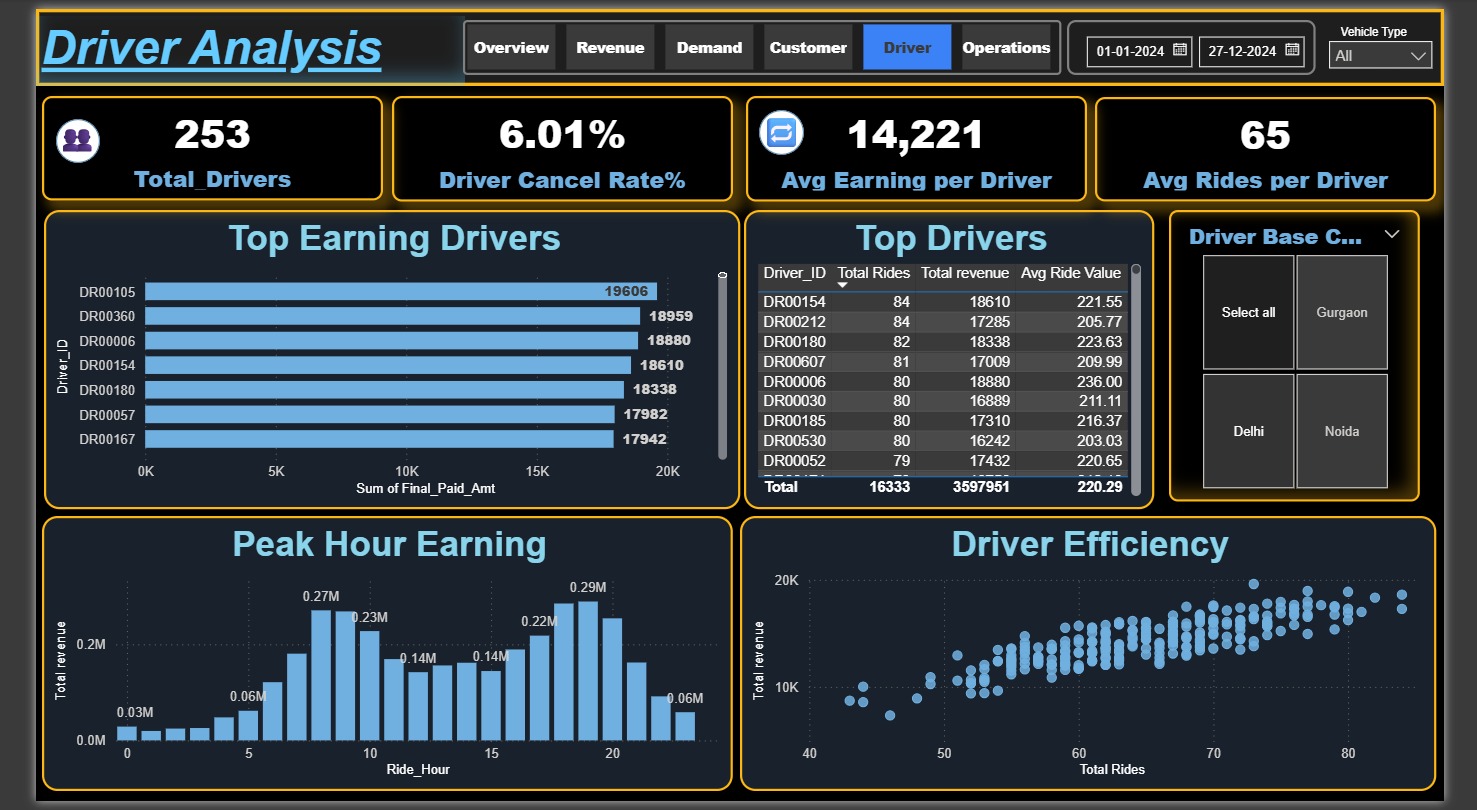

This screenshot's page, from the dashboard's own definition file:
{"tool":"powerbi","page":{"name":"Driver","canvas":[1280,720],"ordinal":4},"visuals":[{"type":"card","title":"Total Rides","fields":{"Values":["All Measures.Driver Cancel Rate%"]},"box":[324,79,310,96],"z":0},{"type":"scatterChart","title":"Driver Efficiency","fields":{"X":["All Measures.Total Rides"],"Y":["All Measures.Total revenue"],"Category":["Rides.Driver_ID"]},"box":[640,461,633,250],"z":1000},{"type":"barChart","title":"Top Earning Drivers","fields":{"Category":["Rides.Driver_ID"],"Y":["Sum(Rides.Final_Paid_Amt)"]},"box":[7,183,633,272],"z":2000},{"type":"tableEx","title":"Top Drivers","fields":{"Values":["Rides.Driver_ID","All Measures.Total Rides","All Measures.Total revenue","All Measures.Avg Ride Value"]},"box":[644,183,373,272],"z":3000},{"type":"shape","box":[0,0,1280,70],"z":4000},{"type":"slicer","fields":{"Values":["Rides.Booking_Timestamp"]},"box":[937.3,10,226.4,50],"z":5000},{"type":"textbox","box":[0,6,390,64],"z":6000},{"type":"pageNavigator","box":[388.2,10,543.6,50],"z":7000},{"type":"slicer","fields":{"Values":["Vehicles.Vehicle_Type"]},"box":[1165,19,114,66],"z":8000},{"type":"textbox","box":[1181,7,80,25],"z":9000},{"type":"card","title":"Total Rides","fields":{"Values":["All Measures.Avg Rides per Driver"]},"box":[962.7,80,310,95.5],"z":10000},{"type":"clusteredColumnChart","title":"Peak Hour Earning","fields":{"Category":["Rides.Ride_Hour"],"Y":["All Measures.Total revenue"]},"box":[5,461,628,250],"z":11000},{"type":"card","title":"Total Customers","fields":{"Values":["All Measures.Total_Drivers"]},"box":[5,79,310,95.5],"z":12000},{"type":"group","id":"g1","title":"Group 3","box":[14.8,91.7,48.2,50.9],"z":13000},{"type":"card","title":"Repeat Customer %","fields":{"Values":["All Measures.Avg Earning per Driver"]},"box":[645,79,310,96.4],"z":14000},{"type":"group","id":"g2","title":"Group 8","box":[654.1,88.1,57.3,47.3],"z":15000},{"type":"slicer","title":"Driver Base City","fields":{"Values":["Drivers.Driver_Base_City"]},"box":[1030,183,228,265],"z":16000},{"type":"shape","box":[656.9,91.7,40.9,40.9],"z":17000,"group":"g2"},{"type":"shape","box":[18.4,99.8,40,40],"z":17000,"group":"g1"},{"type":"textbox","box":[654.1,88.1,57.3,47.3],"z":18000,"group":"g2"},{"type":"textbox","box":[14.8,91.7,48.2,50.9],"z":18000,"group":"g1"}]}

Visuals, with their boxes in screenshot pixels (x1, y1, x2, y2), scaled from the page's 1280x720 canvas onto the 1477x810 screenshot:
"Total Rides" card: left=374, top=89, right=732, bottom=197
"Driver Efficiency" scatterChart: left=738, top=519, right=1469, bottom=800
"Top Earning Drivers" barChart: left=8, top=206, right=738, bottom=512
"Top Drivers" tableEx: left=743, top=206, right=1174, bottom=512
shape: left=0, top=0, right=1476, bottom=79
slicer - Rides.Booking_Timestamp: left=1082, top=11, right=1343, bottom=68
textbox: left=0, top=7, right=450, bottom=79
pageNavigator: left=448, top=11, right=1075, bottom=68
slicer - Vehicles.Vehicle_Type: left=1344, top=21, right=1476, bottom=96
textbox: left=1363, top=8, right=1455, bottom=36
"Total Rides" card: left=1111, top=90, right=1469, bottom=197
"Peak Hour Earning" clusteredColumnChart: left=6, top=519, right=730, bottom=800
"Total Customers" card: left=6, top=89, right=363, bottom=196
"Group 3" group: left=17, top=103, right=73, bottom=160
"Repeat Customer %" card: left=744, top=89, right=1102, bottom=197
"Group 8" group: left=755, top=99, right=821, bottom=152
"Driver Base City" slicer: left=1189, top=206, right=1452, bottom=504
shape: left=758, top=103, right=805, bottom=149
shape: left=21, top=112, right=67, bottom=157
textbox: left=755, top=99, right=821, bottom=152
textbox: left=17, top=103, right=73, bottom=160
